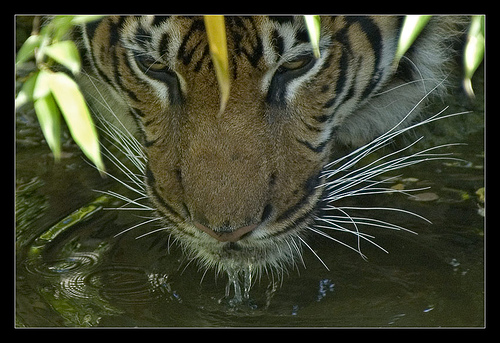Tigre: (113, 14, 377, 284)
